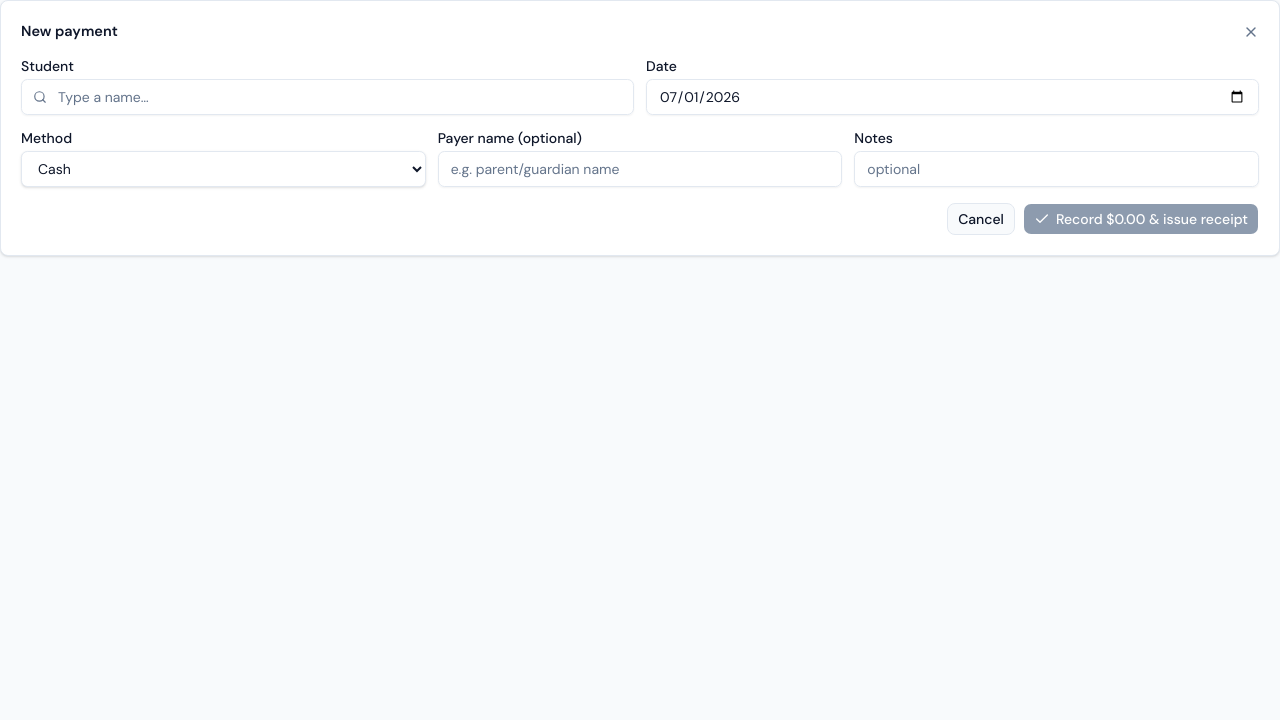
Test: NewPaymentForm — allocation math › flags overpayment with an 'Exceeds balance' warning
Type "Tendai" into the field labelled "Student".
click(328, 97); type("Tendai")  # box [21,79,634,115]
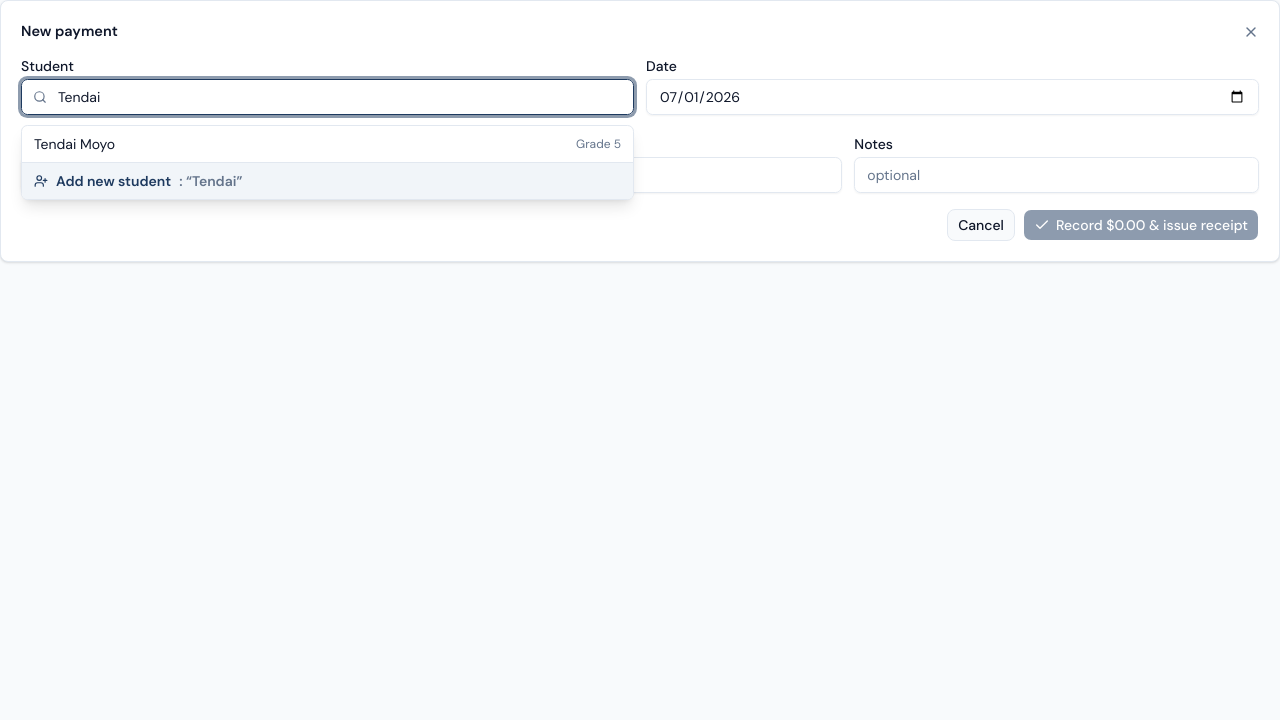
Click the button "Tendai Moyo Grade 5".
click(75, 144)  # box [22,126,633,162]
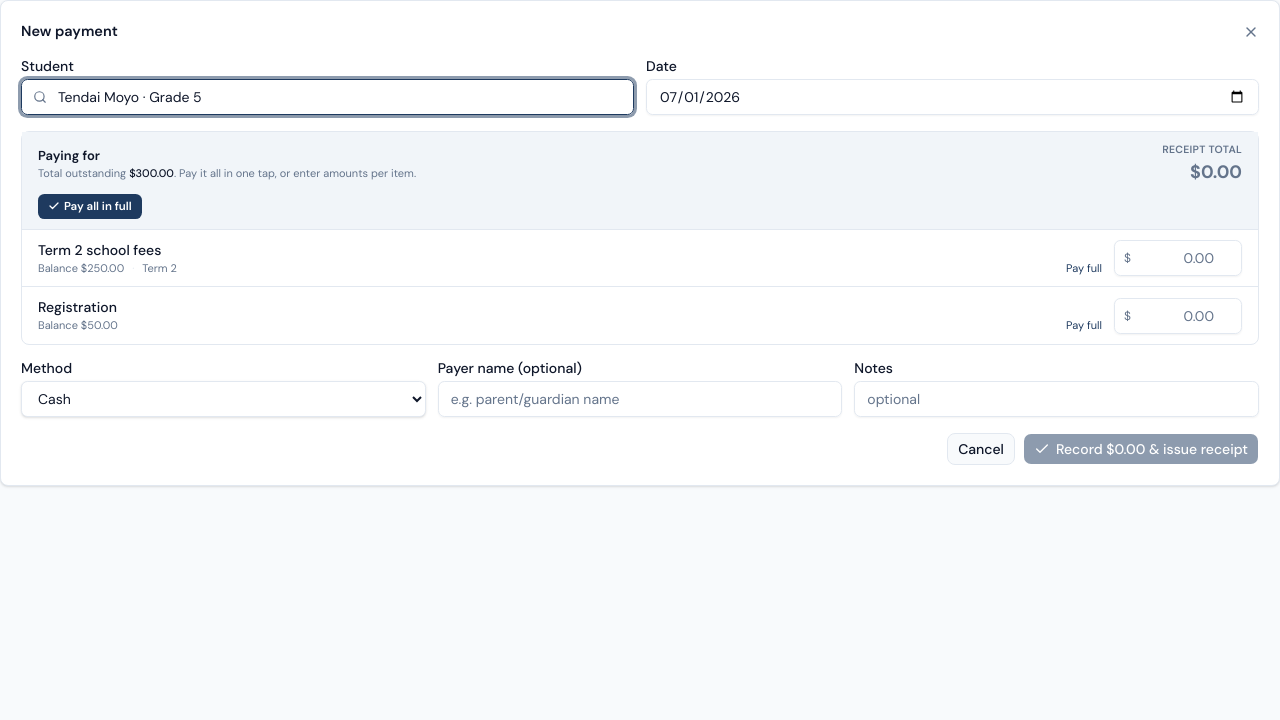
Type "500" into the number field named "Amount paid for Term 2 school fees".
click(1178, 258); type("500")  # box [1114,240,1242,276]
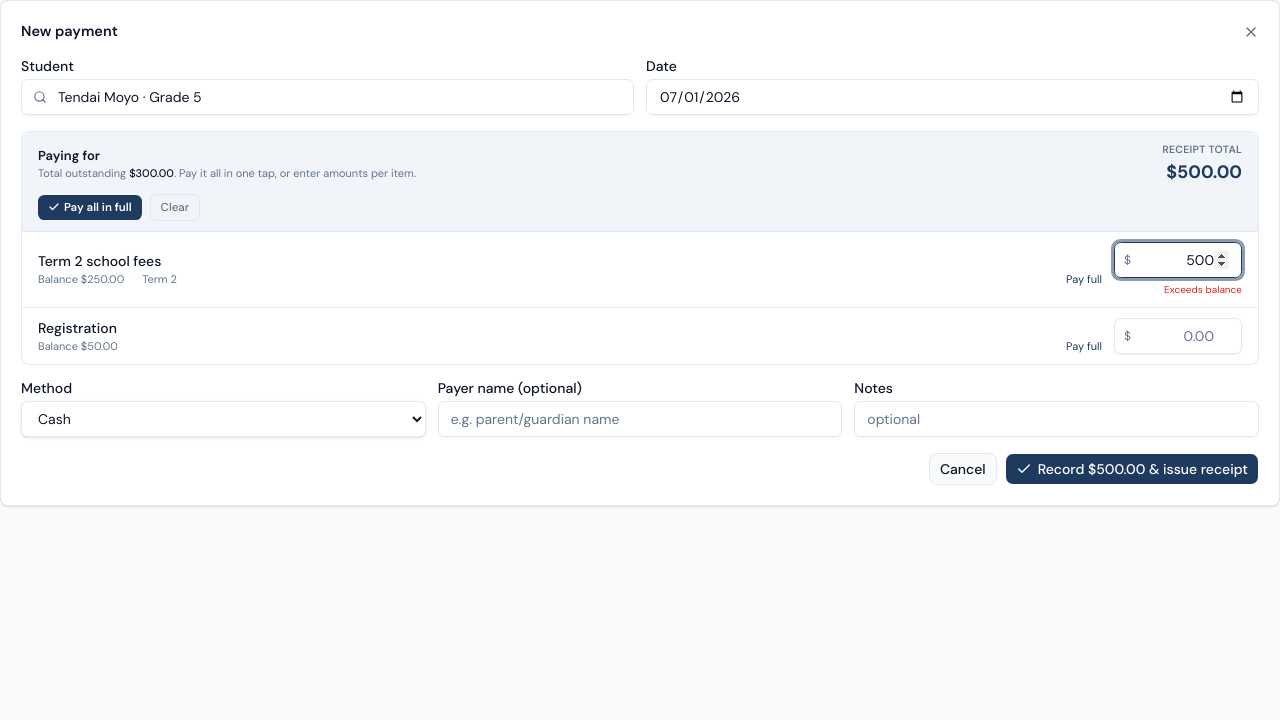
expect the text "Exceeds balance" is shown: met, box [1164,283,1242,296]
